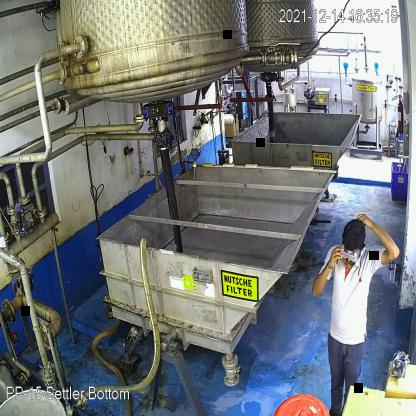goggles: (337, 242, 362, 264)
